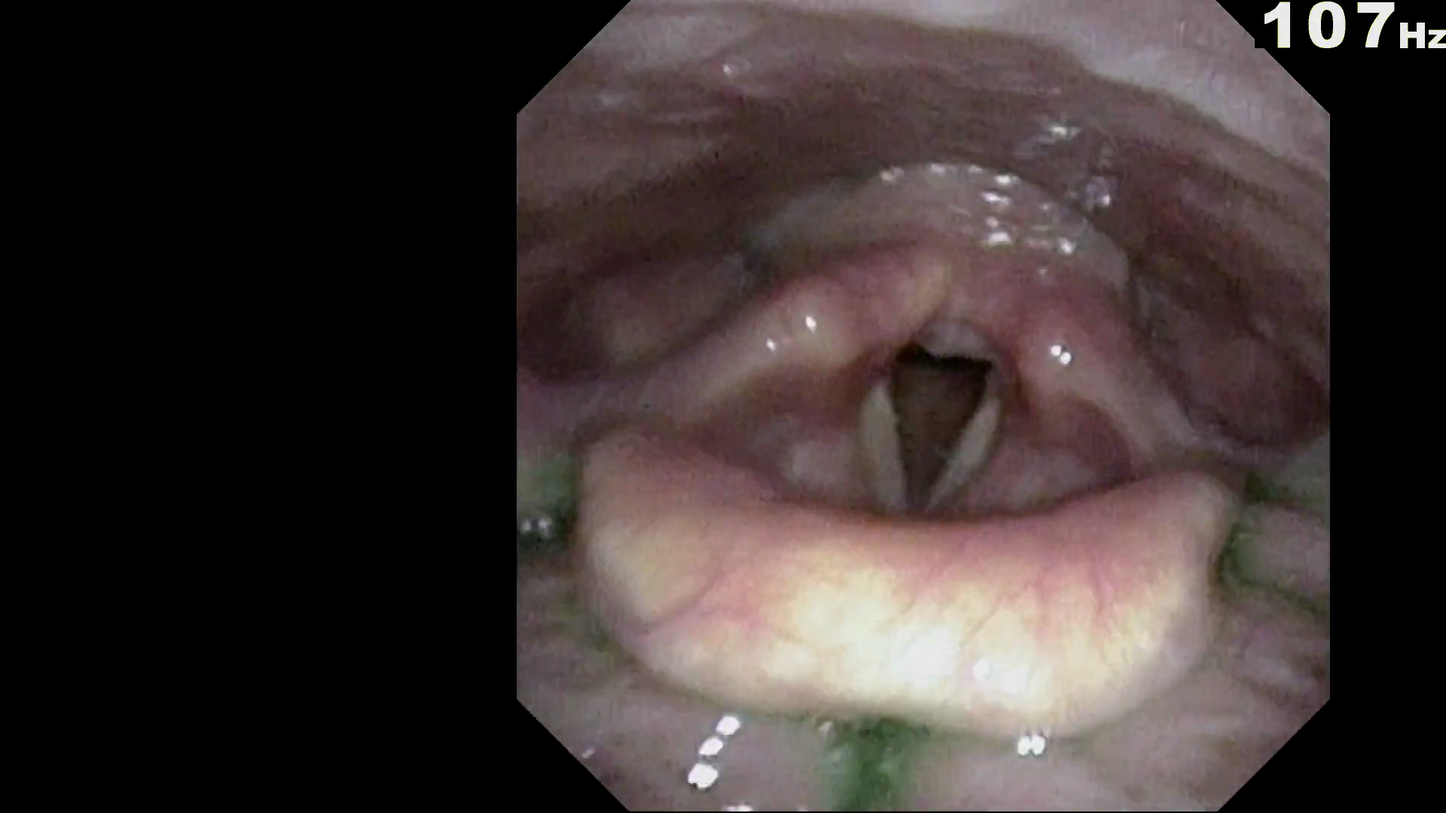epiglottis: (563, 411, 1270, 731), (602, 489, 1226, 761)
trachea: (864, 319, 1010, 542)
